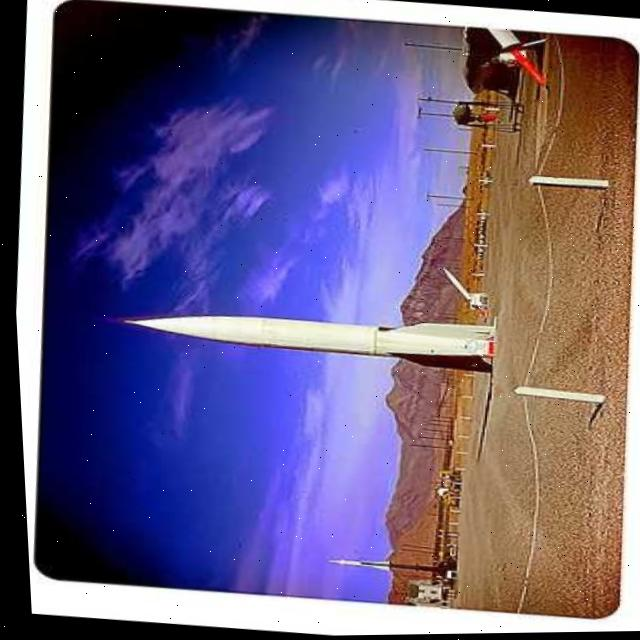missile: (97, 290, 505, 378), (316, 554, 398, 582)
